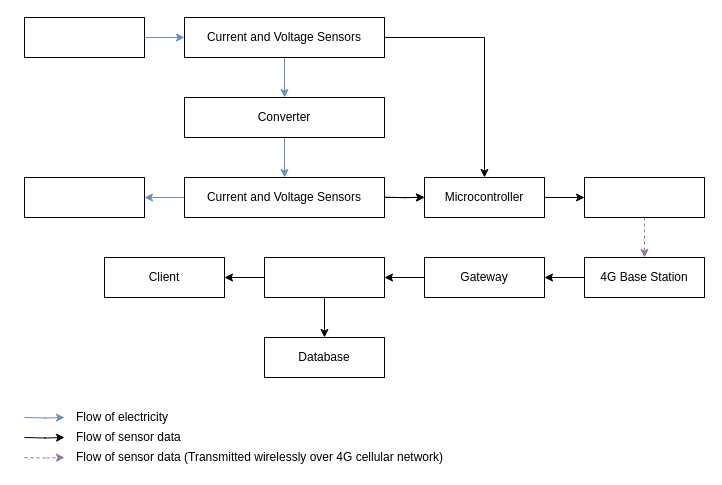
This 722x485 diagram has some shape labels left out. Each missing label, with the centre of its shape:
"4G Modem" belongs at (644,197).
"Battery" belongs at (84,197).
"Server" belongs at (324,277).
"Solar Panel" belongs at (84,37).
